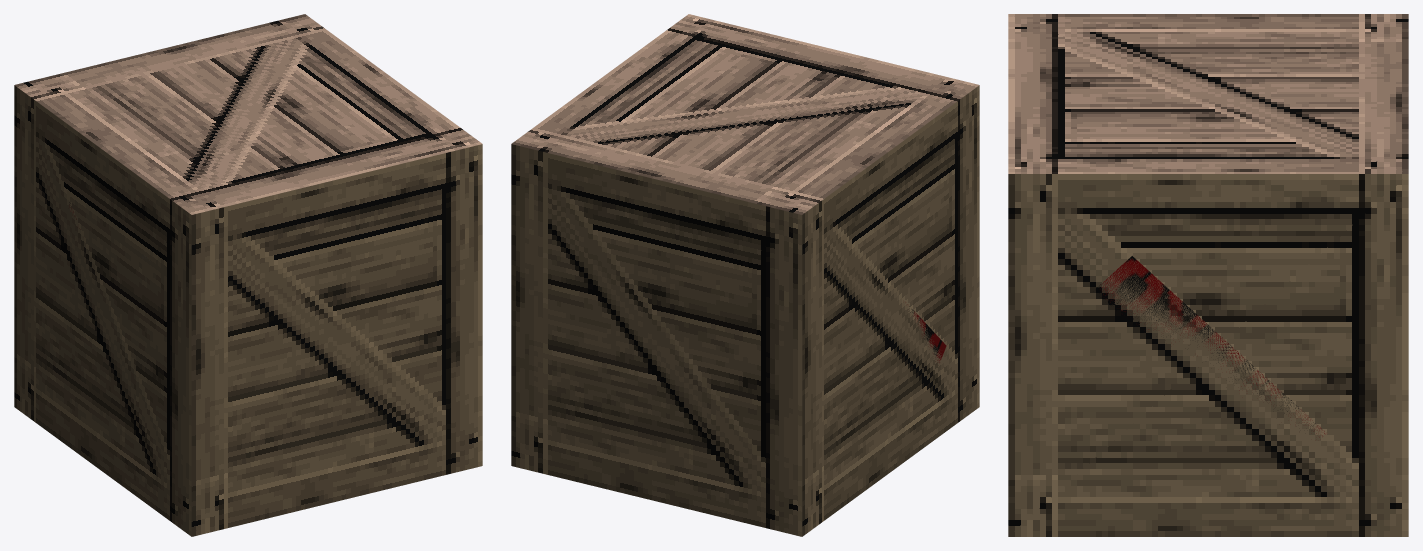
File: primary_109.glb
3 views of the same model, side by side, from view 1: azimuth 30°, elevation 25°; view 2: azimuth 150°, elevation 25°; view 3: azimuth 270°, elevation 25° (orthographic). The views are drawn at different scales.
Parts seen in each view (by area): view 1: Object; view 2: Object; view 3: Object.
Part boxes in pixels (x1,y1,x2,y2): Object: [14, 14, 482, 536]; Object: [511, 14, 979, 536]; Object: [1008, 14, 1408, 536].
Bounding box in the file's own units: 0.8845 × 0.935 × 0.935.
Materials: 7 (7 with a texture image).
